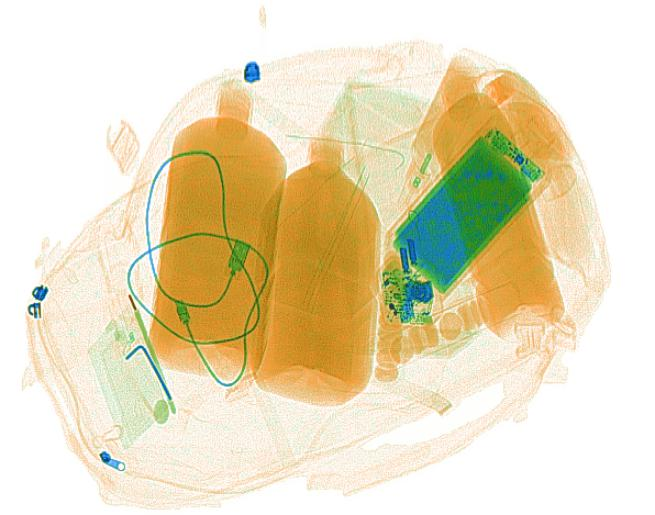plasticBottleWithaNozzle: (397, 52, 485, 213)
